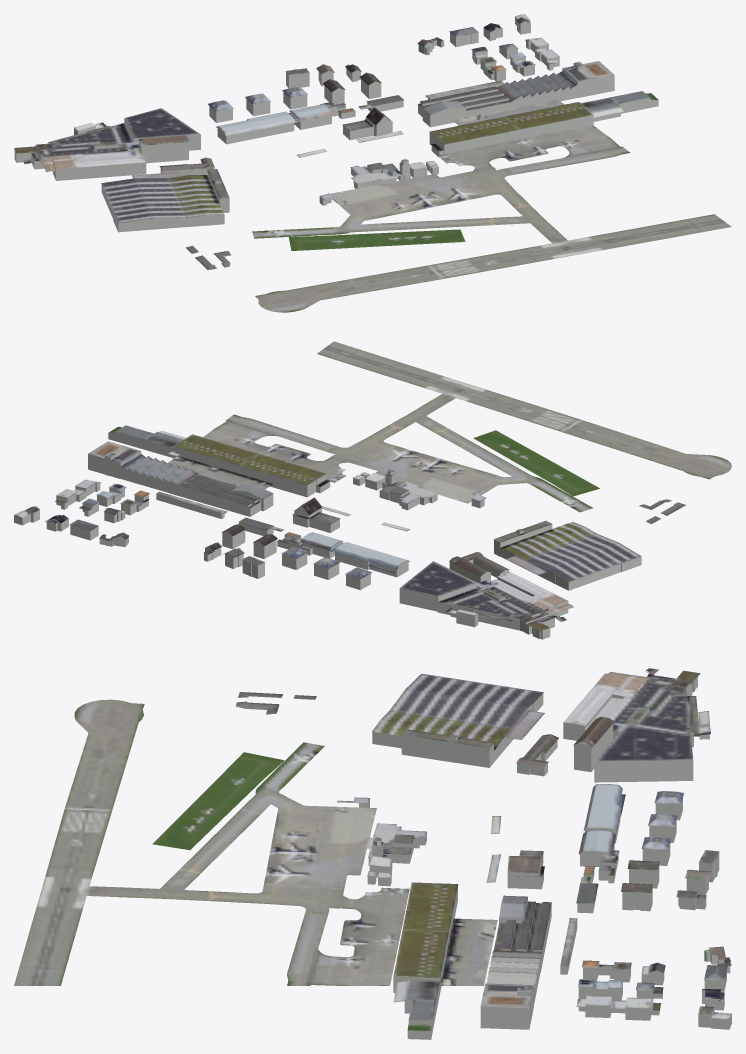
The model's file is LSZR_-2_0.glb.
The picture shows the model from 3 angles, top to bottom: view 1: azimuth 30°, elevation 25°; view 2: azimuth 150°, elevation 25°; view 3: azimuth 270°, elevation 25°; orthographic projection. The views are drawn at different scales.
Parts seen in each view (by area): view 1: pavement_LSZR_pavement_5518_2523, building_f505e915e7da34d4, building_94b79ea9e1cef14e, building_711fe4f79534ae4e, building_34af874e102ae2c6, building_0279c093b43ac821, building_b0a01ed62aca6543, building_7145fa95644ea27f, building_d6e83ed4e40a7a01, building_812c5f93d23fd625, building_4b4e1f8eb124d5b3, building_5bb84fbe9c15bb41 (+1 smaller); view 2: pavement_LSZR_pavement_5518_2523, building_f505e915e7da34d4, building_94b79ea9e1cef14e, building_711fe4f79534ae4e, building_34af874e102ae2c6, building_0279c093b43ac821, building_b0a01ed62aca6543, building_7145fa95644ea27f, building_d6e83ed4e40a7a01, building_812c5f93d23fd625, building_4b4e1f8eb124d5b3, building_5bb84fbe9c15bb41 (+1 smaller); view 3: pavement_LSZR_pavement_5518_2523, building_f505e915e7da34d4, building_94b79ea9e1cef14e, building_711fe4f79534ae4e, building_b0a01ed62aca6543, building_0279c093b43ac821, building_7145fa95644ea27f, building_812c5f93d23fd625, building_d6e83ed4e40a7a01, building_4b4e1f8eb124d5b3, building_34af874e102ae2c6, building_5bb84fbe9c15bb41 (+2 smaller).
Part boxes in pixels (x1,y1,x2,y2): pavement_LSZR_pavement_5518_2523: [252, 99, 731, 312]; building_f505e915e7da34d4: [418, 61, 658, 151]; building_94b79ea9e1cef14e: [14, 108, 200, 172]; building_711fe4f79534ae4e: [101, 157, 229, 223]; building_34af874e102ae2c6: [418, 63, 658, 157]; building_0279c093b43ac821: [209, 69, 403, 144]; building_b0a01ed62aca6543: [208, 64, 403, 136]; building_7145fa95644ea27f: [14, 118, 200, 180]; building_d6e83ed4e40a7a01: [418, 17, 559, 99]; building_812c5f93d23fd625: [417, 14, 559, 97]; building_4b4e1f8eb124d5b3: [101, 163, 229, 232]; building_5bb84fbe9c15bb41: [297, 107, 402, 183]; pavement_LSZR_pavement_5518_2523: [169, 341, 731, 512]; building_f505e915e7da34d4: [88, 425, 330, 508]; building_94b79ea9e1cef14e: [400, 556, 573, 631]; building_711fe4f79534ae4e: [461, 520, 641, 582]; building_34af874e102ae2c6: [88, 431, 330, 516]; building_0279c093b43ac821: [204, 522, 408, 590]; building_b0a01ed62aca6543: [203, 517, 409, 578]; building_7145fa95644ea27f: [399, 562, 568, 639]; building_d6e83ed4e40a7a01: [14, 483, 224, 547]; building_812c5f93d23fd625: [14, 479, 227, 541]; building_4b4e1f8eb124d5b3: [468, 524, 641, 590]; building_5bb84fbe9c15bb41: [292, 480, 437, 531]; pavement_LSZR_pavement_5518_2523: [14, 699, 497, 985]; building_f505e915e7da34d4: [393, 882, 551, 1031]; building_94b79ea9e1cef14e: [563, 668, 710, 761]; building_711fe4f79534ae4e: [372, 673, 558, 767]; building_b0a01ed62aca6543: [576, 784, 719, 903]; building_0279c093b43ac821: [577, 798, 719, 913]; building_7145fa95644ea27f: [563, 677, 709, 782]; building_812c5f93d23fd625: [560, 918, 731, 1019]; building_d6e83ed4e40a7a01: [560, 921, 731, 1029]; building_4b4e1f8eb124d5b3: [372, 694, 557, 776]; building_34af874e102ae2c6: [393, 887, 551, 1039]; building_5bb84fbe9c15bb41: [366, 816, 544, 882].
Size of the model in its own units: 547 by 22.33 by 462.
3 materials, 2 textured.
